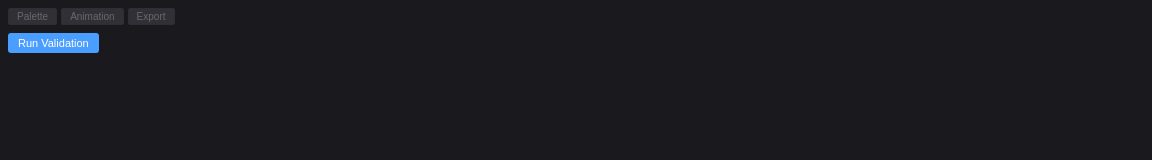
Scenario: ValidationPanel › running validation produces a report
Click the button with test id "validation-run": x=53, y=43 [8, 33, 99, 53]
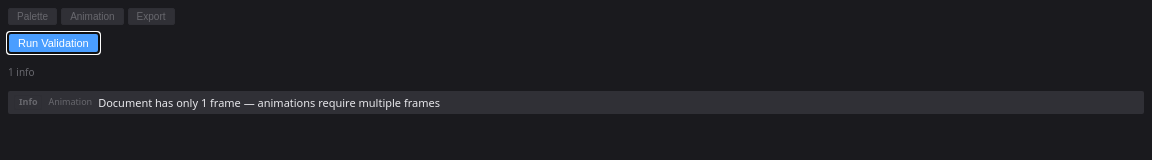
Now the element with test id "validation-summary" is shown, box [8, 65, 35, 79]
